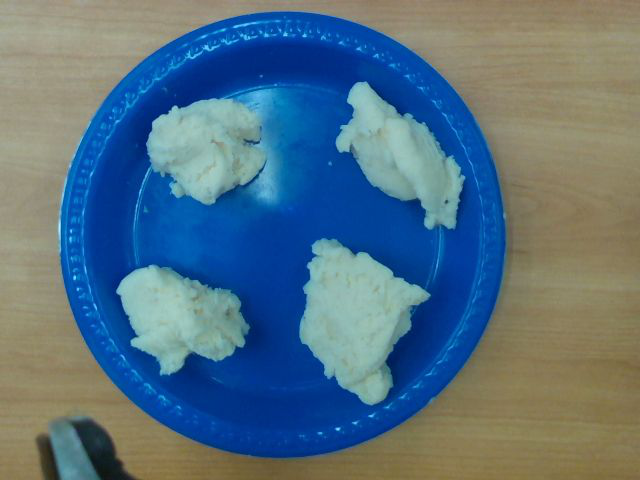mashed_potato: (299, 238, 430, 407), (336, 82, 464, 229), (116, 264, 250, 376), (146, 98, 266, 204)
